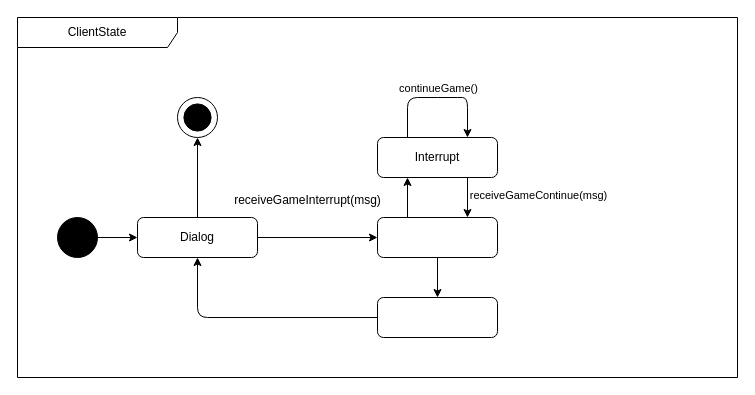
The diagram is 755 pixels wide and 395 high, and some of its shapes have lost their labels. The centre of each missing label's shape, as x and y in pixels:
Ceremony: point 437,317
Game: point 437,237
